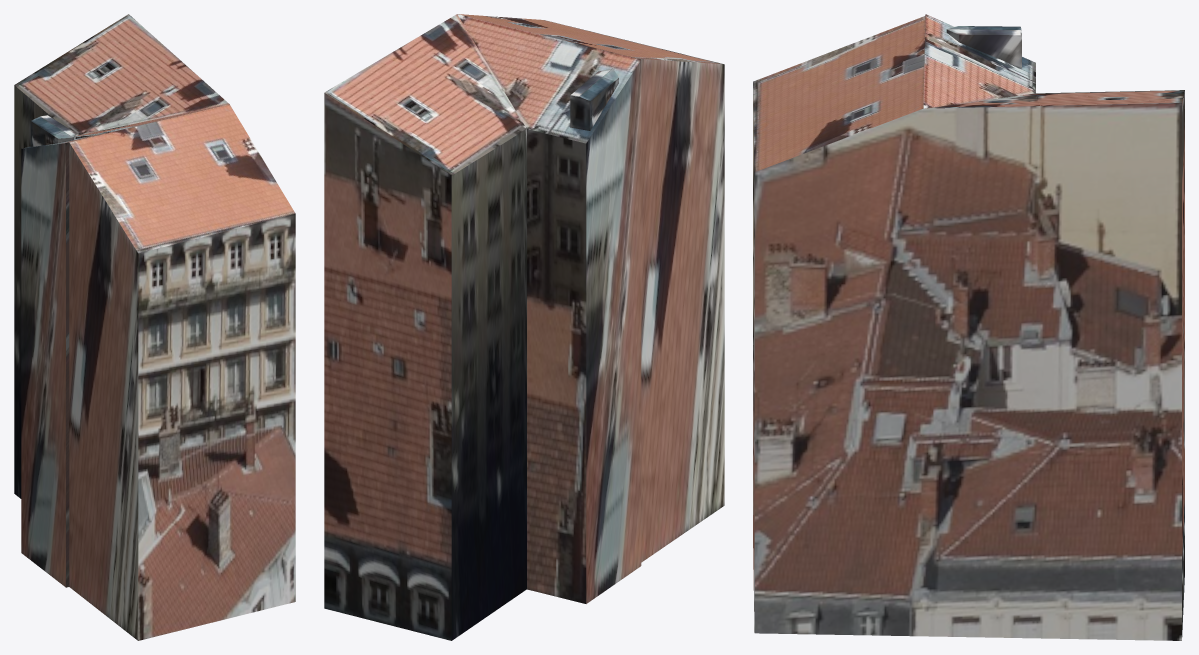
3 renders of one model, left to right at view 1: azimuth 30°, elevation 25°; view 2: azimuth 150°, elevation 25°; view 3: azimuth 270°, elevation 25°, orthographic. The views are drawn at different scales.
Visible parts, largest first — view 1: Z_UP; view 2: Z_UP; view 3: Z_UP.
Part boxes in pixels (<box>): Z_UP: <box>14,14,295,640</box>; Z_UP: <box>324,14,724,640</box>; Z_UP: <box>753,14,1184,640</box>.
Size of the model in its own units: 10.66 by 26.96 by 19.61.
Materials: 2 (1 with a texture image).
